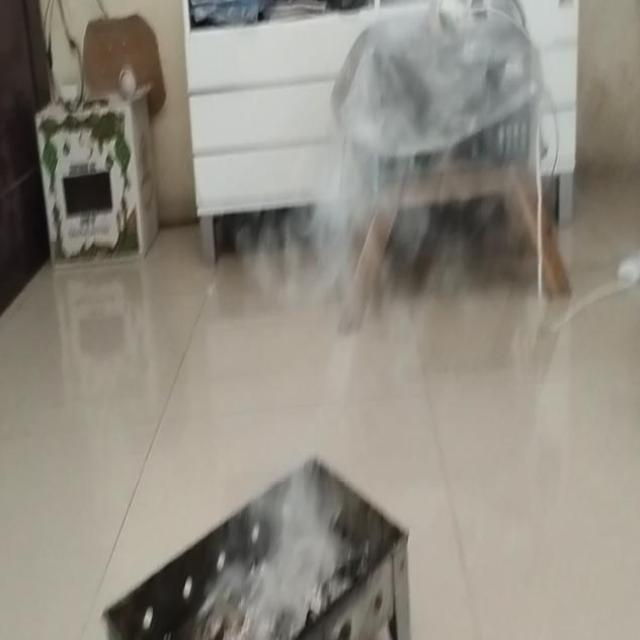fire: (303, 23, 430, 313), (254, 436, 340, 578)
